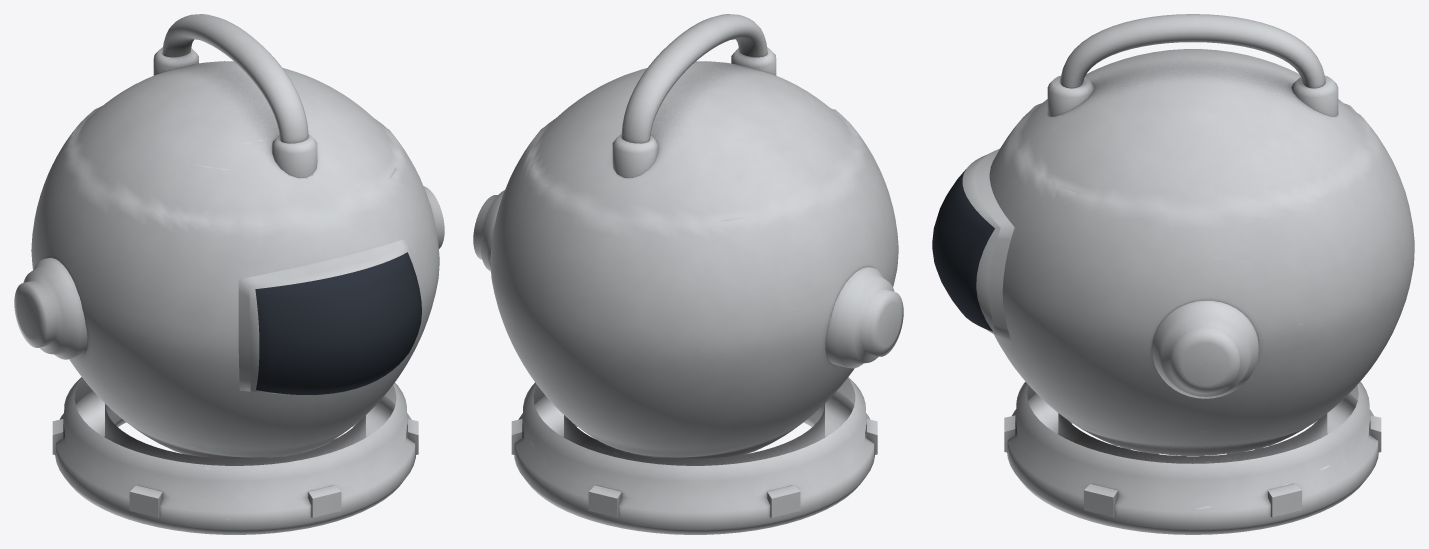
The model's file is SM_Helmet_A.glb.
3 renders of one model, left to right at view 1: azimuth 30°, elevation 25°; view 2: azimuth 150°, elevation 25°; view 3: azimuth 270°, elevation 25°, orthographic. The views are drawn at different scales.
Visible parts, largest first — view 1: SM_Helmet_A; view 2: SM_Helmet_A; view 3: SM_Helmet_A.
Boxes of the visible parts, x1=… form: SM_Helmet_A: x1=14, y1=14, x2=444, y2=534; SM_Helmet_A: x1=473, y1=14, x2=903, y2=534; SM_Helmet_A: x1=932, y1=14, x2=1414, y2=534.
Bounding box in the file's own units: 0.306 × 0.3125 × 0.3084.
2 materials, 1 textured.
